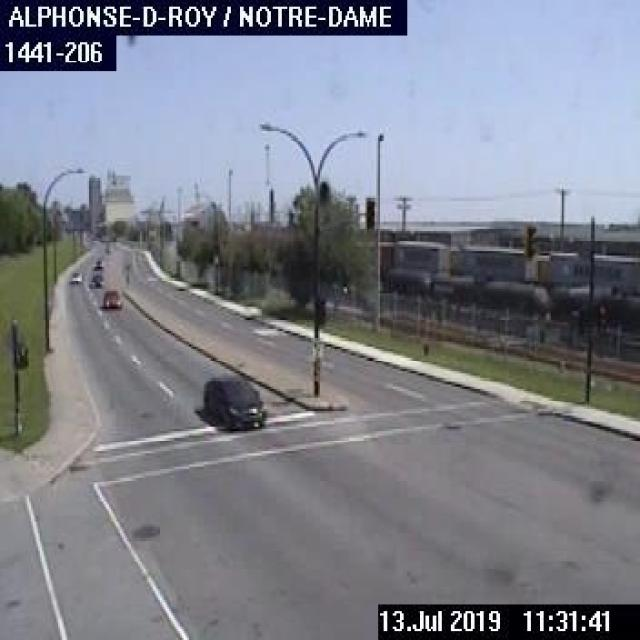vehicle: (198, 374, 264, 434), (102, 288, 120, 308), (88, 271, 103, 286), (68, 269, 81, 283), (90, 256, 102, 268)
